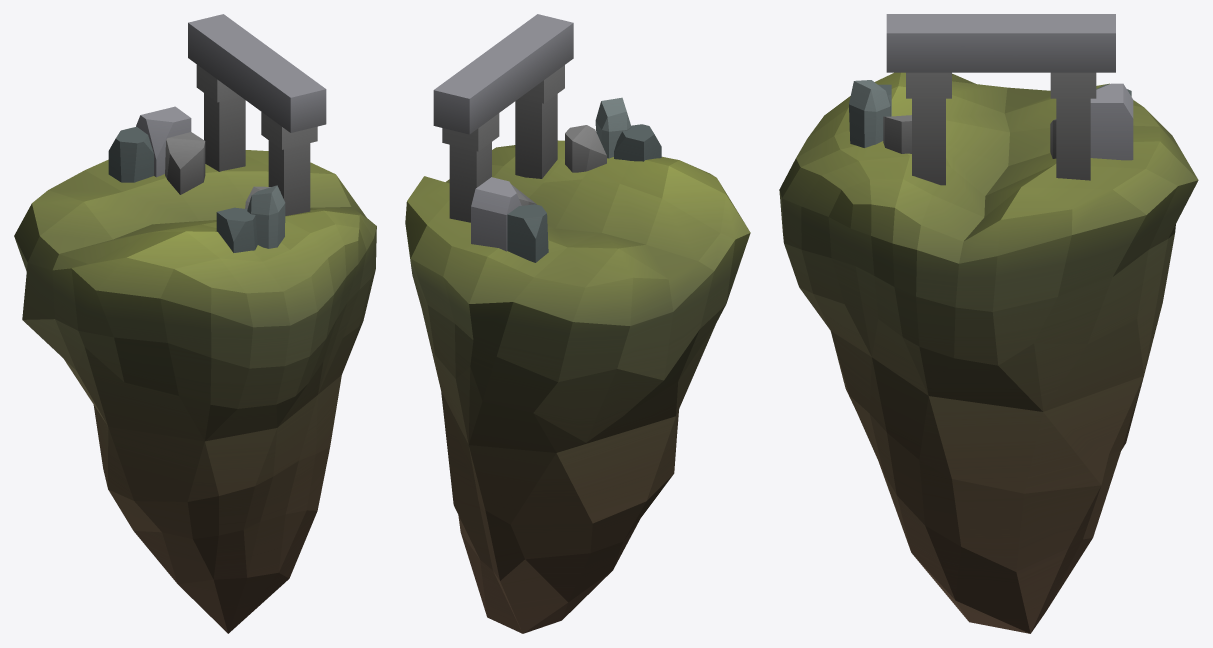
File: MonumentIsland.fbx
The picture shows the model from 3 angles, left to right: view 1: azimuth 30°, elevation 25°; view 2: azimuth 150°, elevation 25°; view 3: azimuth 270°, elevation 25°; orthographic projection. The views are drawn at different scales.
Visible parts, largest first — view 1: MonumentIsland.001, Monument, RockGroup01, Rock03, Rock01, Rock02; view 2: MonumentIsland.001, Monument, RockGroup01, Rock02, Rock01; view 3: MonumentIsland.001, Monument, RockGroup01, Rock02.
Part boxes in pixels (x1,y1,x2,y2): MonumentIsland.001: (14, 150, 376, 633); Monument: (188, 14, 326, 215); RockGroup01: (216, 185, 285, 252); Rock03: (165, 132, 205, 194); Rock01: (108, 126, 153, 182); Rock02: (136, 106, 191, 177); MonumentIsland.001: (405, 140, 750, 633); Monument: (433, 14, 573, 222); RockGroup01: (565, 97, 661, 172); Rock02: (471, 177, 521, 251); Rock01: (507, 204, 548, 262); MonumentIsland.001: (779, 72, 1198, 633); Monument: (886, 14, 1115, 185); RockGroup01: (849, 80, 911, 153); Rock02: (1090, 83, 1133, 160).
Size of the model in its own units: 535 by 955 by 583.
